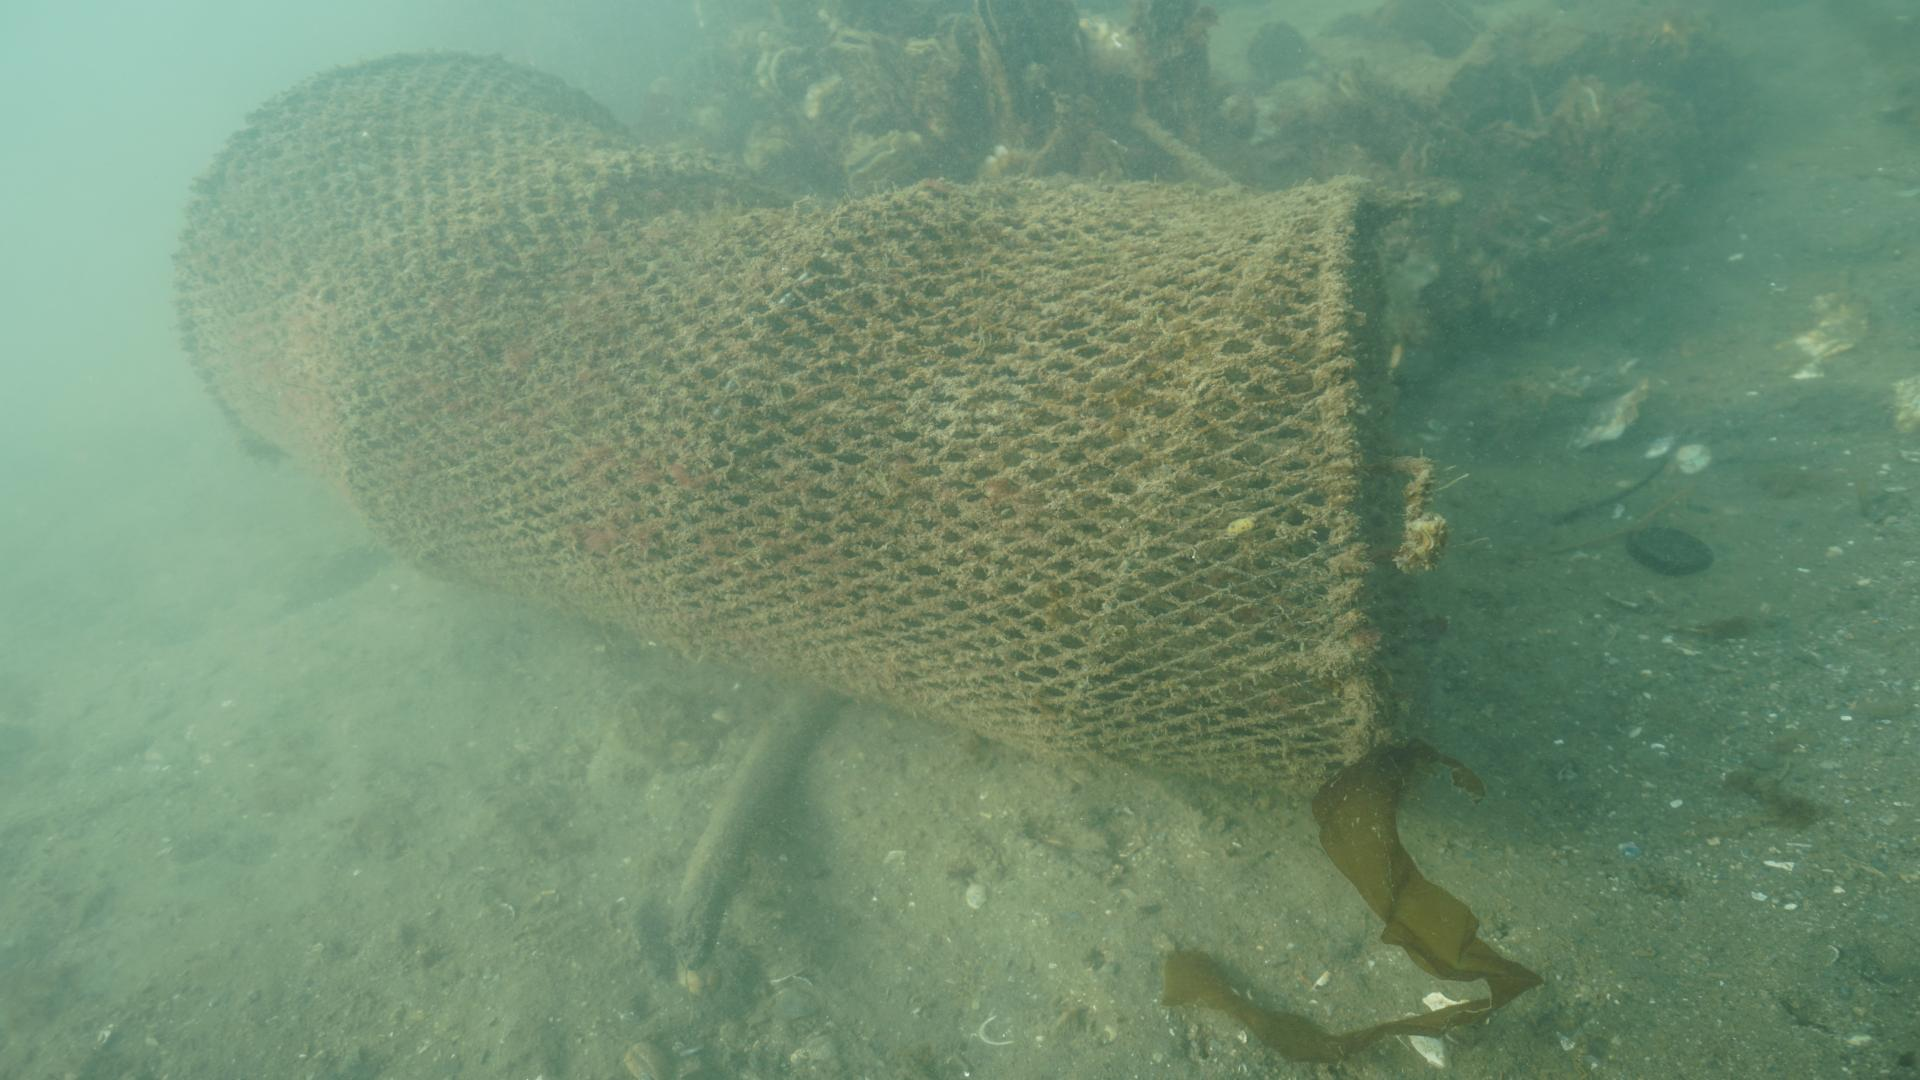spring fish trap: (164, 42, 1422, 807)
